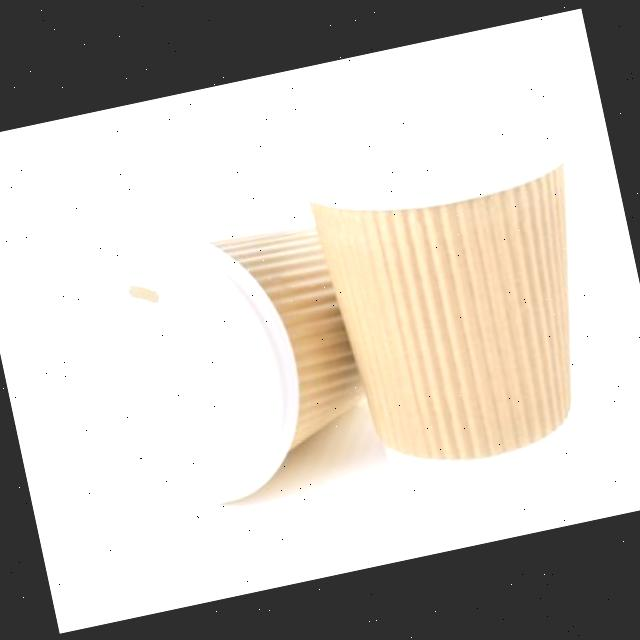trash: (293, 90, 636, 502)
